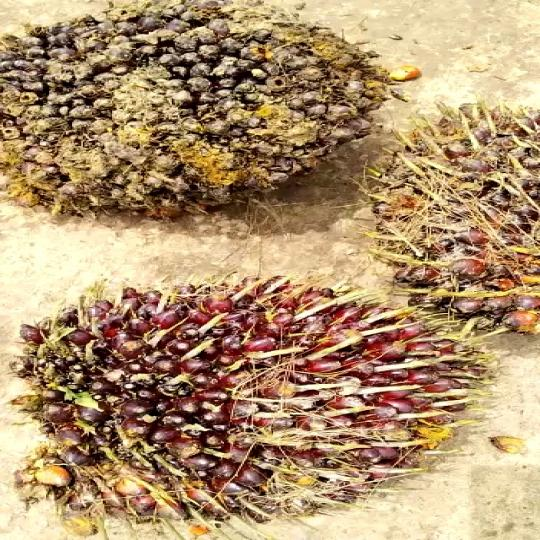kurang masak: (0, 275, 494, 529), (0, 6, 393, 231), (333, 95, 540, 348)
